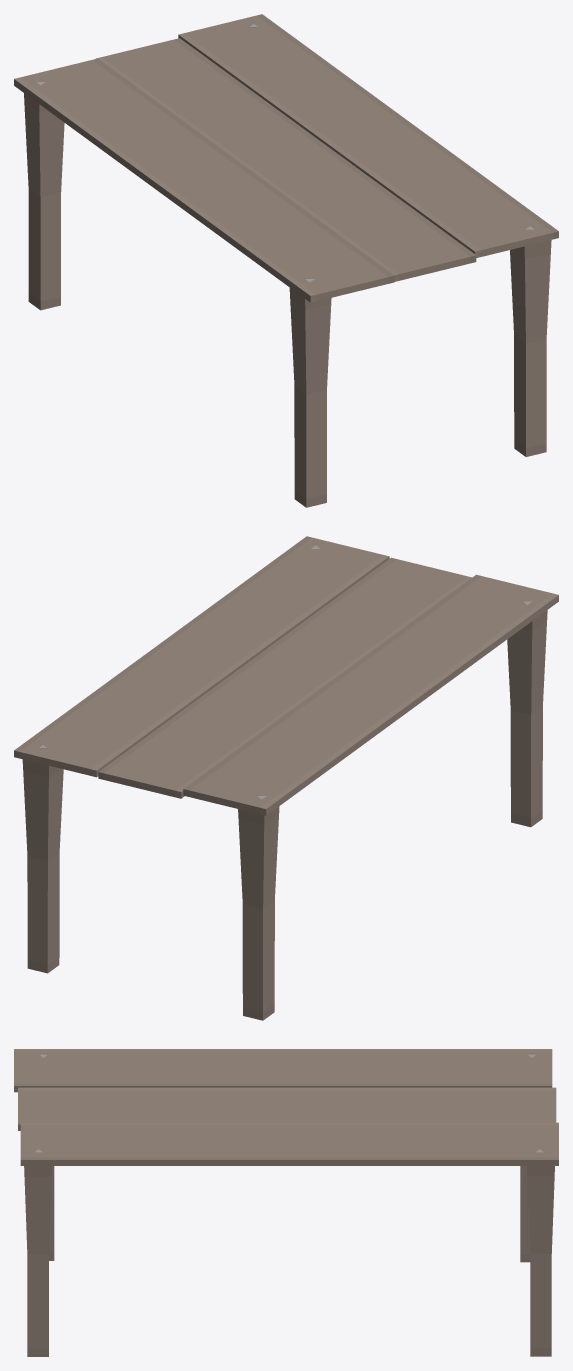
Rendered from table.glb.
The picture shows the model from 3 angles, top to bottom: view 1: azimuth 30°, elevation 25°; view 2: azimuth 150°, elevation 25°; view 3: azimuth 270°, elevation 25°; orthographic projection. The views are drawn at different scales.
Parts seen in each view (by area): view 1: _MeshInstance3D_12; view 2: _MeshInstance3D_12; view 3: _MeshInstance3D_12.
Boxes of the visible parts, x1,y1,x2,y2 form: _MeshInstance3D_12: (14,14,558,507); _MeshInstance3D_12: (14,536,558,1020); _MeshInstance3D_12: (14,1049,558,1356).
Size of the model in its own units: 0.9996 by 0.8407 by 2.06.
